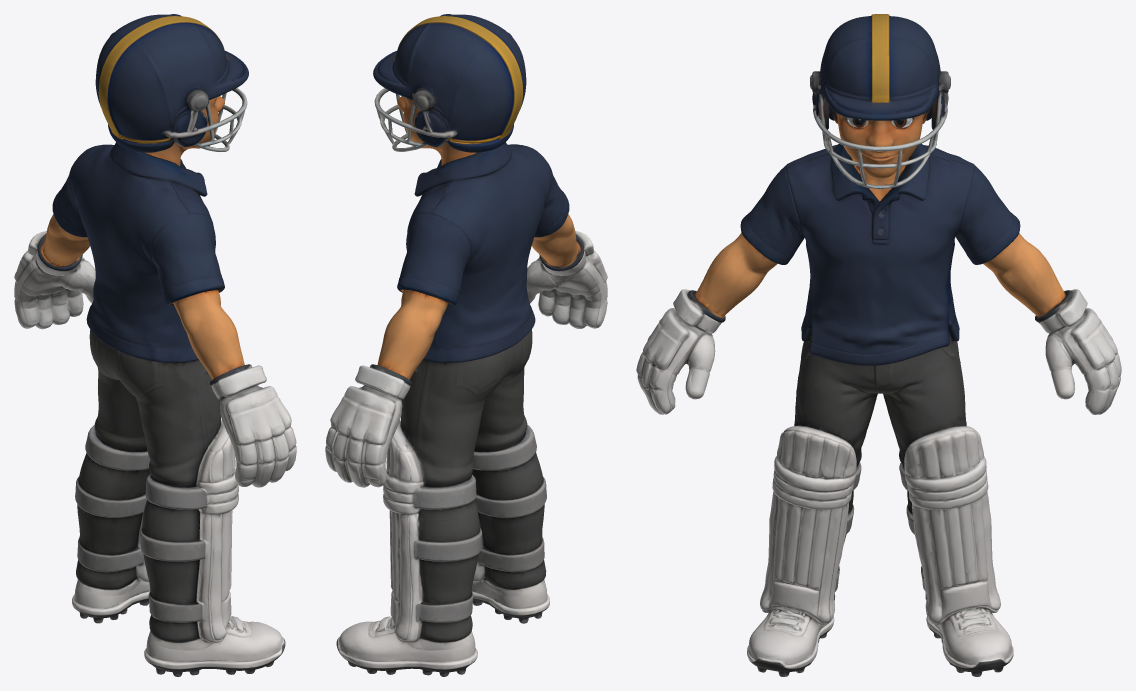
The model's file is batter.glb.
The picture shows the model from 3 angles, left to right: view 1: azimuth 30°, elevation 25°; view 2: azimuth 150°, elevation 25°; view 3: azimuth 270°, elevation 25°; orthographic projection.
Parts seen in each view (by area): view 1: tripo_node_0661ae1c-1080-4010-b96f-ac31d1e56fff; view 2: tripo_node_0661ae1c-1080-4010-b96f-ac31d1e56fff; view 3: tripo_node_0661ae1c-1080-4010-b96f-ac31d1e56fff.
Part boxes in pixels (x1,y1,x2,y2): tripo_node_0661ae1c-1080-4010-b96f-ac31d1e56fff: (14, 14, 296, 676); tripo_node_0661ae1c-1080-4010-b96f-ac31d1e56fff: (325, 14, 607, 676); tripo_node_0661ae1c-1080-4010-b96f-ac31d1e56fff: (636, 14, 1121, 676).
Bounding box in the file's own units: 0.2298 × 0.9791 × 0.6859.
Materials: 1 (1 with a texture image).
